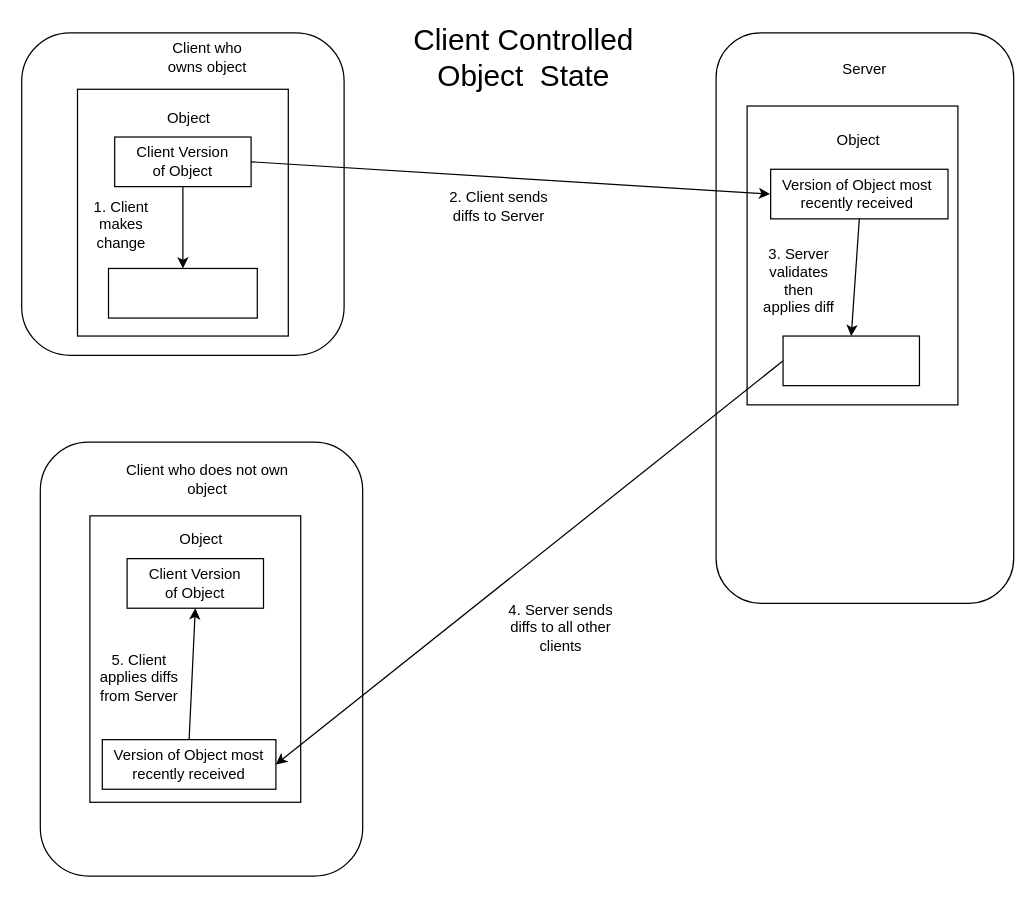
Some shapes in this 1035 by 898 pixel diagram are drawn without their labels. The shapes that lost their labels are listed below. From the top down, each one's centre as x and y in pixels, then its label:
At [182,292]: "Version of Object most recently sent".
At [850,360]: "Server Version of Object".
